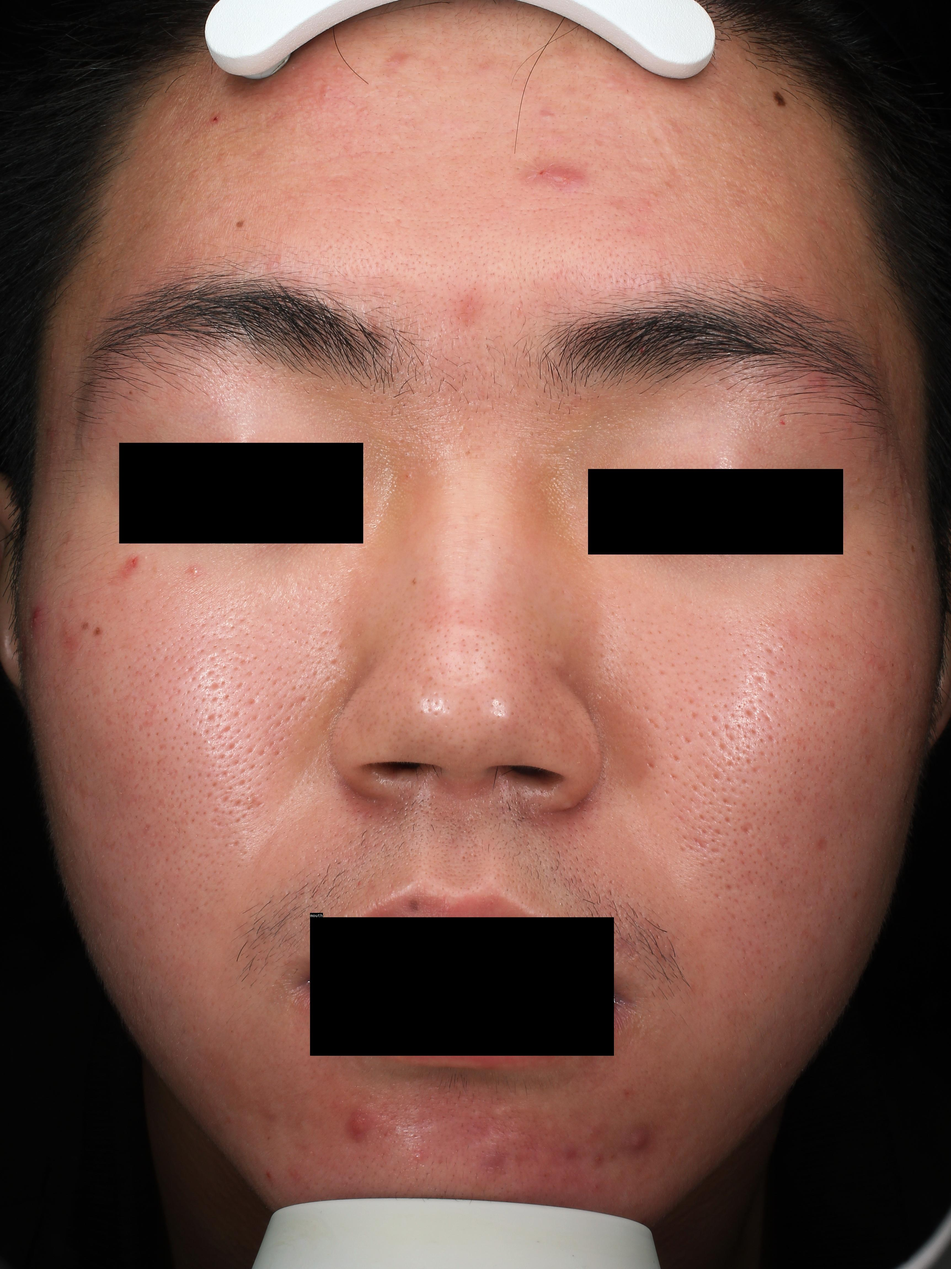atrophic_scar: (480, 1149, 509, 1181), (775, 832, 792, 851), (688, 836, 709, 851), (813, 835, 829, 852), (759, 710, 774, 725), (216, 725, 234, 737), (740, 821, 754, 836), (154, 796, 167, 812), (750, 674, 767, 686), (647, 717, 661, 731), (294, 695, 308, 708), (204, 713, 217, 726), (825, 699, 839, 711), (142, 718, 156, 730), (224, 839, 239, 850), (644, 758, 656, 771), (669, 752, 682, 764), (726, 731, 738, 743), (742, 707, 755, 718), (167, 768, 178, 781), (142, 822, 152, 836), (225, 741, 236, 753), (712, 772, 723, 783), (681, 735, 693, 745), (103, 716, 113, 727), (209, 682, 220, 692), (723, 883, 733, 894), (766, 733, 776, 743), (233, 798, 242, 809), (157, 743, 167, 752), (669, 772, 679, 781), (711, 847, 722, 855), (237, 779, 247, 787), (712, 828, 722, 836), (756, 847, 764, 857), (766, 690, 777, 697), (320, 630, 328, 639), (768, 670, 779, 676), (112, 687, 117, 695)
closed_comedo: (319, 91, 330, 100), (320, 84, 330, 93), (866, 487, 874, 495), (546, 113, 555, 120), (415, 1154, 423, 1161), (334, 65, 342, 72), (329, 657, 336, 663), (650, 192, 657, 198), (408, 474, 412, 478), (855, 477, 859, 481)
hypertrophic_scar: (541, 648, 570, 668), (483, 1102, 513, 1118)
melasma: (866, 550, 872, 557), (911, 544, 916, 552)
nevus: (772, 89, 788, 108), (407, 897, 421, 913), (234, 219, 245, 230), (94, 627, 103, 637), (81, 621, 89, 630), (412, 577, 416, 585), (129, 391, 133, 395)
open_comedo: (572, 63, 580, 70), (293, 639, 299, 645), (431, 437, 436, 442), (440, 442, 444, 448), (404, 452, 408, 457), (619, 135, 623, 138)
other: (642, 98, 673, 168), (779, 420, 786, 425)
papule: (344, 1109, 372, 1140), (543, 166, 571, 187), (29, 606, 44, 632), (628, 1132, 646, 1148), (129, 556, 138, 569), (265, 1169, 273, 1181), (49, 350, 56, 363), (189, 168, 199, 177), (84, 331, 92, 342)
pustule: (190, 565, 198, 574)
